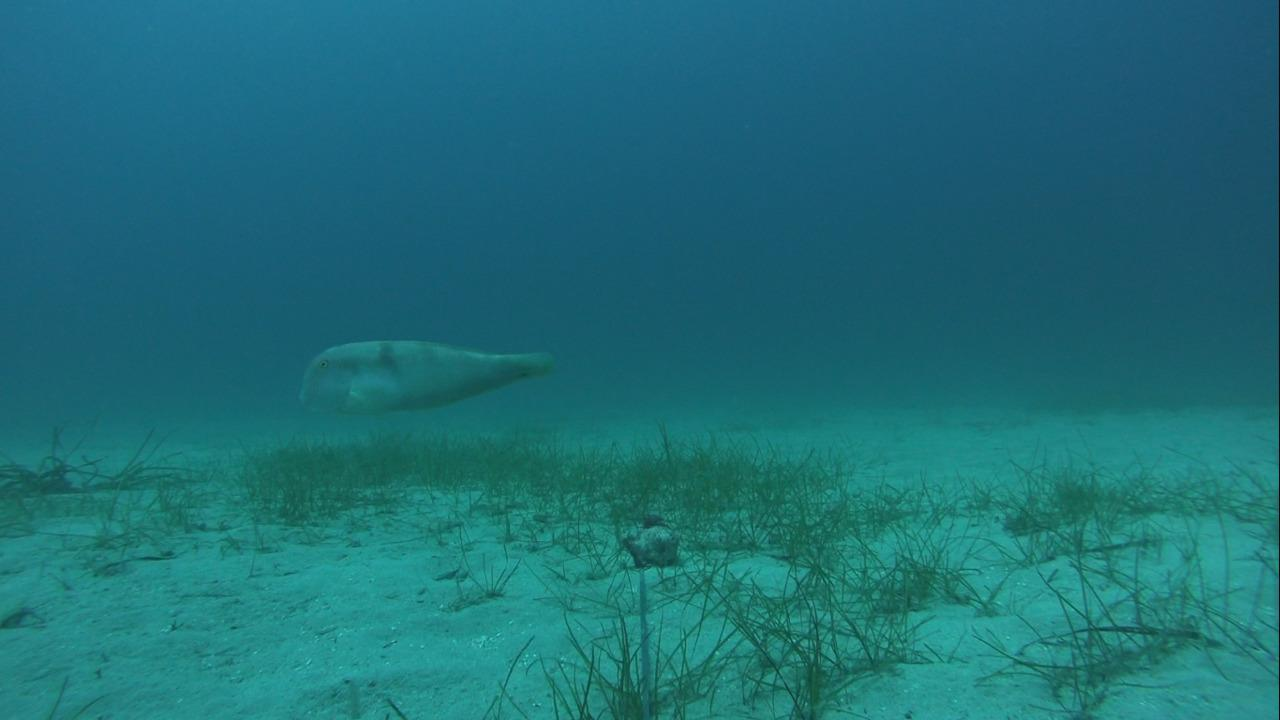raor: (295, 336, 562, 425)
